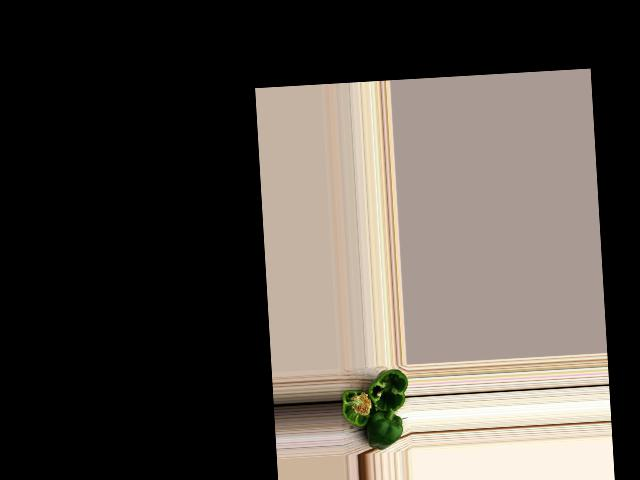bell_pepper: (340, 380, 376, 430)
